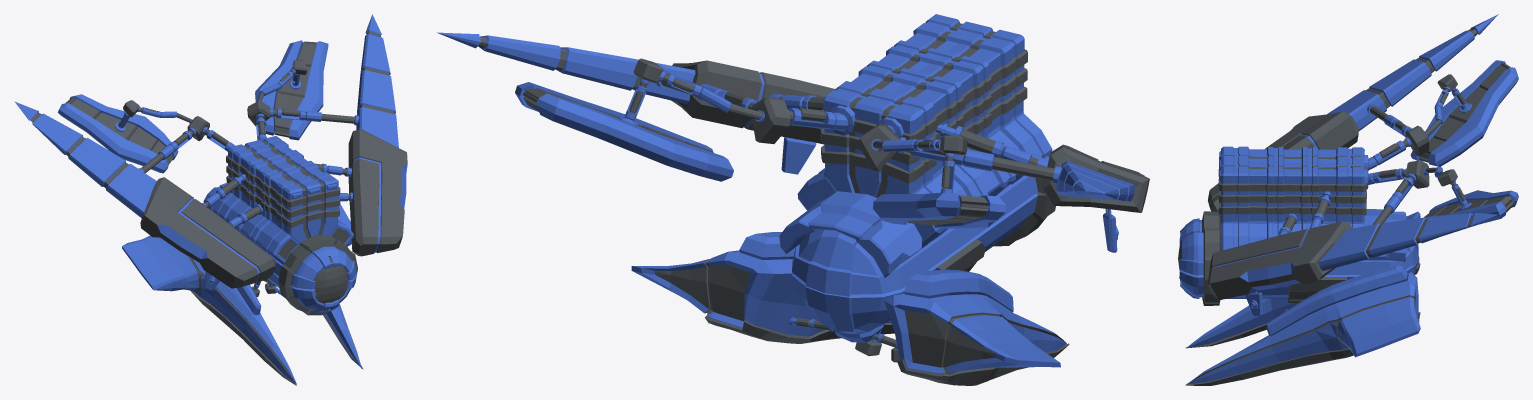
File: Fighter_03_Blue.fbx
The picture shows the model from 3 angles, left to right: view 1: azimuth 30°, elevation 25°; view 2: azimuth 150°, elevation 25°; view 3: azimuth 270°, elevation 25°; orthographic projection. The views are drawn at different scales.
Visible parts, largest first — view 1: Fighter_03_Blue; view 2: Fighter_03_Blue; view 3: Fighter_03_Blue.
Part boxes in pixels (<box>): Fighter_03_Blue: <box>14,14,407,385</box>; Fighter_03_Blue: <box>437,14,1149,385</box>; Fighter_03_Blue: <box>1178,14,1518,385</box>.
Bounding box in the file's own units: 1519 × 892 × 1091.
2 materials, 2 textured.
